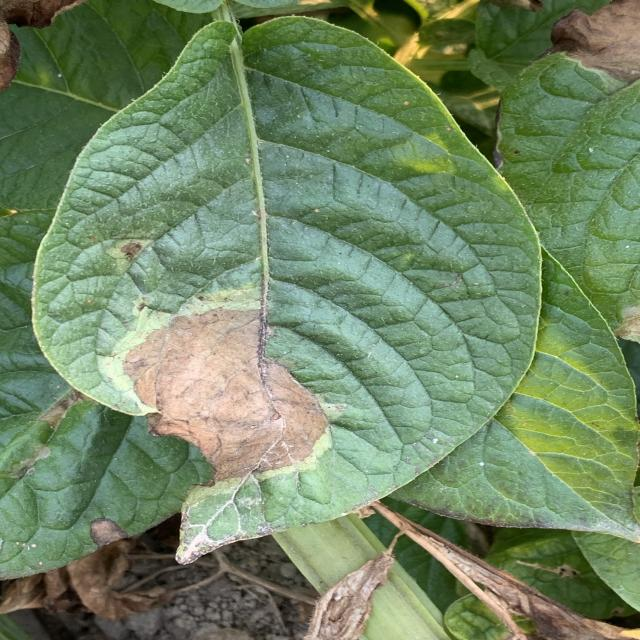lateblight: (123, 309, 328, 482), (105, 239, 163, 286)
